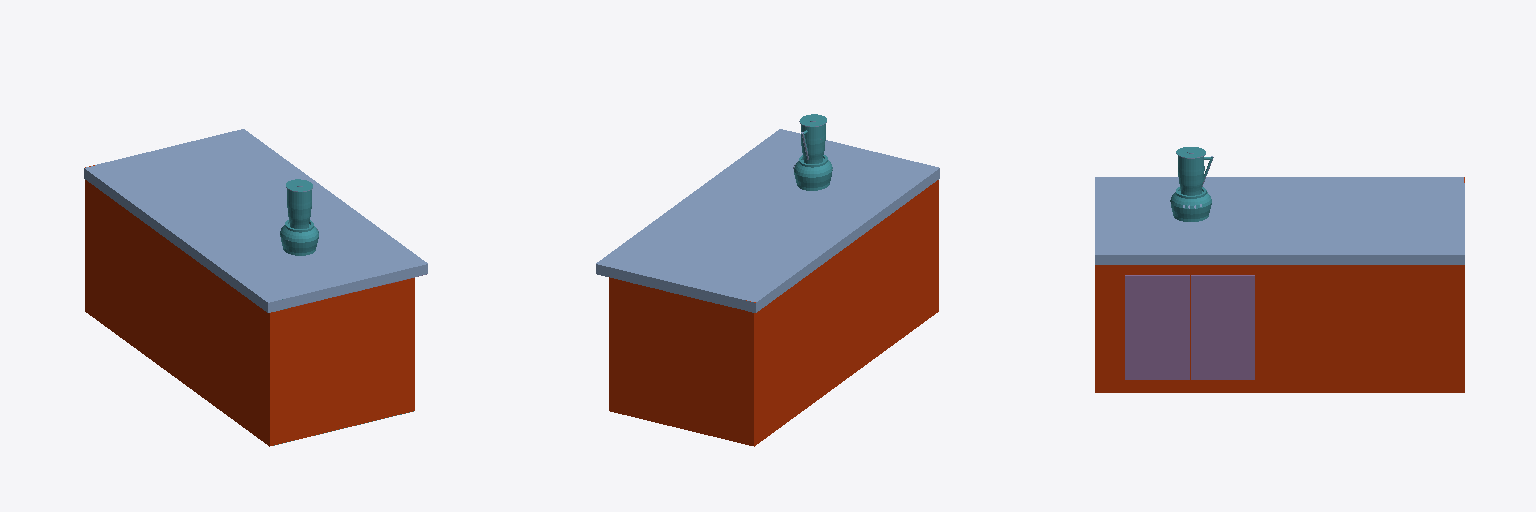
The picture shows the model from 3 angles: view 1: azimuth 30°, elevation 25°; view 2: azimuth 150°, elevation 25°; view 3: azimuth 270°, elevation 25°; orthographic projection.
Parts seen in each view (by area): view 1: Cube.032_Cube.096; view 2: Cube.032_Cube.096; view 3: Cube.032_Cube.096.
Part boxes in pixels (x1,y1,x2,y2): Cube.032_Cube.096: (84,129,427,446); Cube.032_Cube.096: (596,114,939,446); Cube.032_Cube.096: (1095,147,1464,392).
Size of the model in its own units: 10.23 by 12.69 by 20.42.
1 materials, 1 textured.